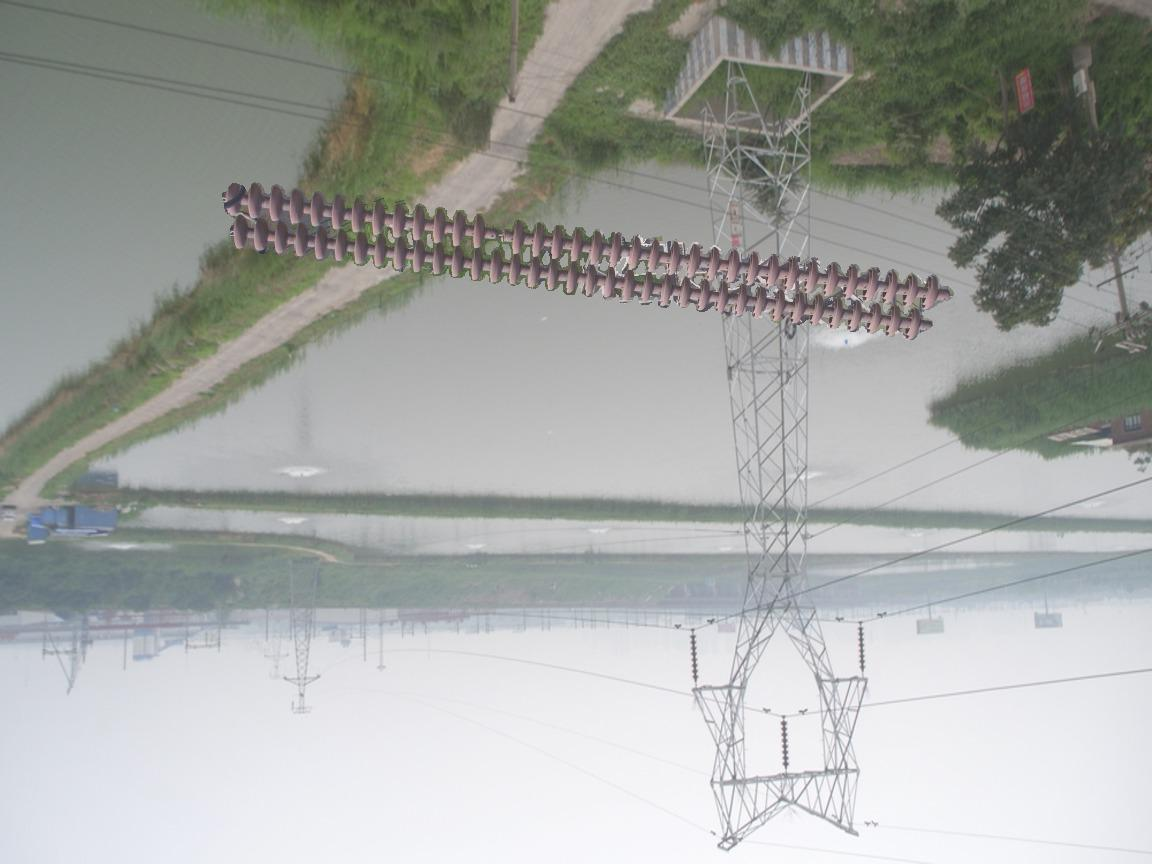insulator: (222, 177, 950, 344), (779, 717, 792, 767), (855, 624, 868, 672), (689, 631, 701, 682)
insulator_stringdrop: (469, 211, 527, 257)
